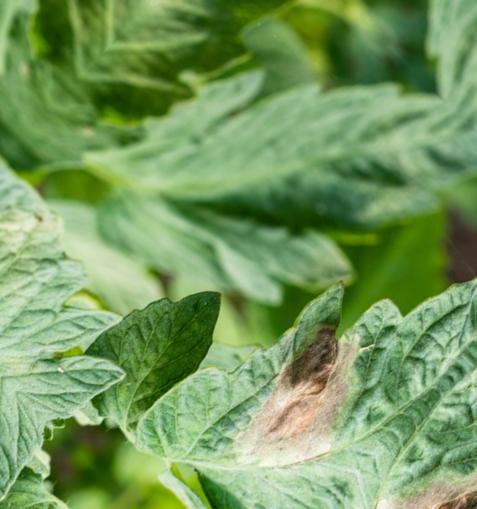Tomato leaf late blight: (87, 102, 477, 509), (0, 149, 180, 439)
